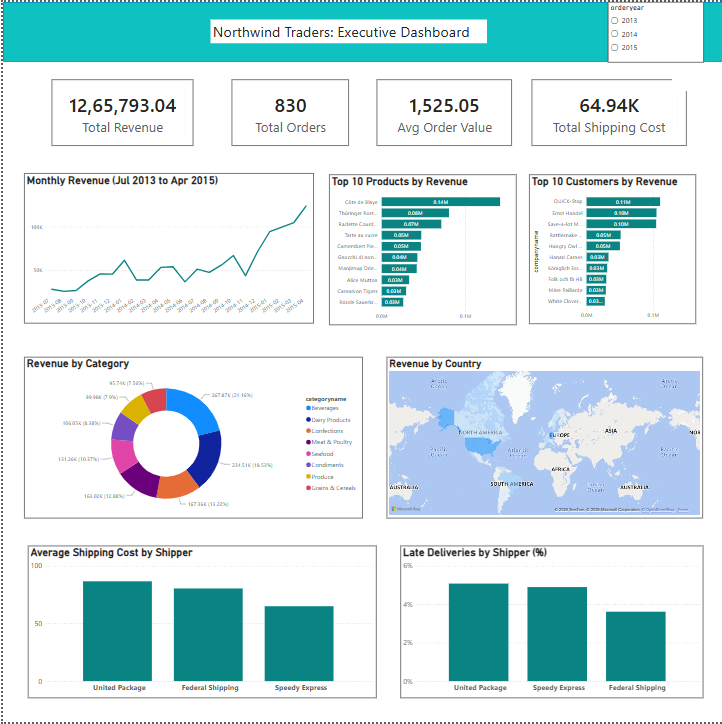

The page's visual inventory and layout, read from the dashboard file:
{"tool":"powerbi","page":{"name":"Page 1","canvas":[1600,1600],"ordinal":0},"visuals":[{"type":"cardVisual","fields":{"Data":["order_details.Total Revenue"]},"box":[109.1,172.7,314.5,147.3],"z":0},{"type":"cardVisual","fields":{"Data":["order_details.Total Orders"]},"box":[507.3,172.7,260,147.3],"z":1000},{"type":"cardVisual","fields":{"Data":["order_details.Avg Order Value"]},"box":[830.9,172.7,300,147.3],"z":2000},{"type":"lineChart","title":"Monthly Revenue (Jul 2013 to Apr 2015)","fields":{"Category":["orders.YearMonth"],"Y":["order_details.Total Revenue"]},"box":[48.3,381.7,643.3,333.3],"z":3000},{"type":"clusteredBarChart","title":"Top 10 Products by Revenue","fields":{"Category":["products.productname"],"Y":["order_details.Total Revenue"]},"box":[726,382,416,334],"z":4000},{"type":"donutChart","title":"Revenue by Category","fields":{"Category":["categories.categoryname"],"Y":["order_details.Total Revenue"]},"box":[48.3,788.3,751.7,358.3],"z":5000},{"type":"clusteredBarChart","title":"Top 10 Customers by Revenue","fields":{"Category":["customers.companyname"],"Y":["order_details.Total Revenue"]},"box":[1170,382,370,332],"z":6000},{"type":"filledMap","title":"Revenue by Country","fields":{"Category":["customers.country"],"Y":["order_details.Total Revenue"]},"box":[854,788,702,358],"z":7000},{"type":"clusteredColumnChart","title":"Average Shipping Cost by Shipper","fields":{"Category":["shippers.companyname"],"Y":["orders.Avg Shipping Cost"]},"box":[56.4,1209.1,774.5,338.2],"z":8000},{"type":"clusteredColumnChart","title":"Late Deliveries by Shipper (%)","fields":{"Category":["shippers.companyname"],"Y":["orders.Late %"]},"box":[883.6,1209.1,672.7,338.2],"z":9000},{"type":"shape","box":[0,0,1600,132.7],"z":10000},{"type":"textbox","box":[460,40,614.5,52.7],"z":11000},{"type":"cardVisual","fields":{"Data":["orders.Total Shipping Cost"]},"box":[1174.5,172.7,343.6,147.3],"z":11001},{"type":"listSlicer","fields":{"Values":["orders.orderyear"]},"box":[1343.6,0,212.7,134.5],"z":11002}]}

Visuals, with their boxes in screenshot pixels (x1, y1, x2, y2), scaled from the page's 1600x1600 canvas onto the 722x724 screenshot:
cardVisual - order_details.Total Revenue: pyautogui.locateOnScreen(49, 78, 191, 145)
cardVisual - order_details.Total Orders: pyautogui.locateOnScreen(229, 78, 346, 145)
cardVisual - order_details.Avg Order Value: pyautogui.locateOnScreen(375, 78, 510, 145)
"Monthly Revenue (Jul 2013 to Apr 2015)" lineChart: pyautogui.locateOnScreen(22, 173, 312, 324)
"Top 10 Products by Revenue" clusteredBarChart: pyautogui.locateOnScreen(328, 173, 515, 324)
"Revenue by Category" donutChart: pyautogui.locateOnScreen(22, 357, 361, 519)
"Top 10 Customers by Revenue" clusteredBarChart: pyautogui.locateOnScreen(528, 173, 695, 323)
"Revenue by Country" filledMap: pyautogui.locateOnScreen(385, 357, 702, 519)
"Average Shipping Cost by Shipper" clusteredColumnChart: pyautogui.locateOnScreen(25, 547, 375, 700)
"Late Deliveries by Shipper (%)" clusteredColumnChart: pyautogui.locateOnScreen(399, 547, 702, 700)
shape: pyautogui.locateOnScreen(0, 0, 721, 60)
textbox: pyautogui.locateOnScreen(208, 18, 485, 42)
cardVisual - orders.Total Shipping Cost: pyautogui.locateOnScreen(530, 78, 685, 145)
listSlicer - orders.orderyear: pyautogui.locateOnScreen(606, 0, 702, 61)
